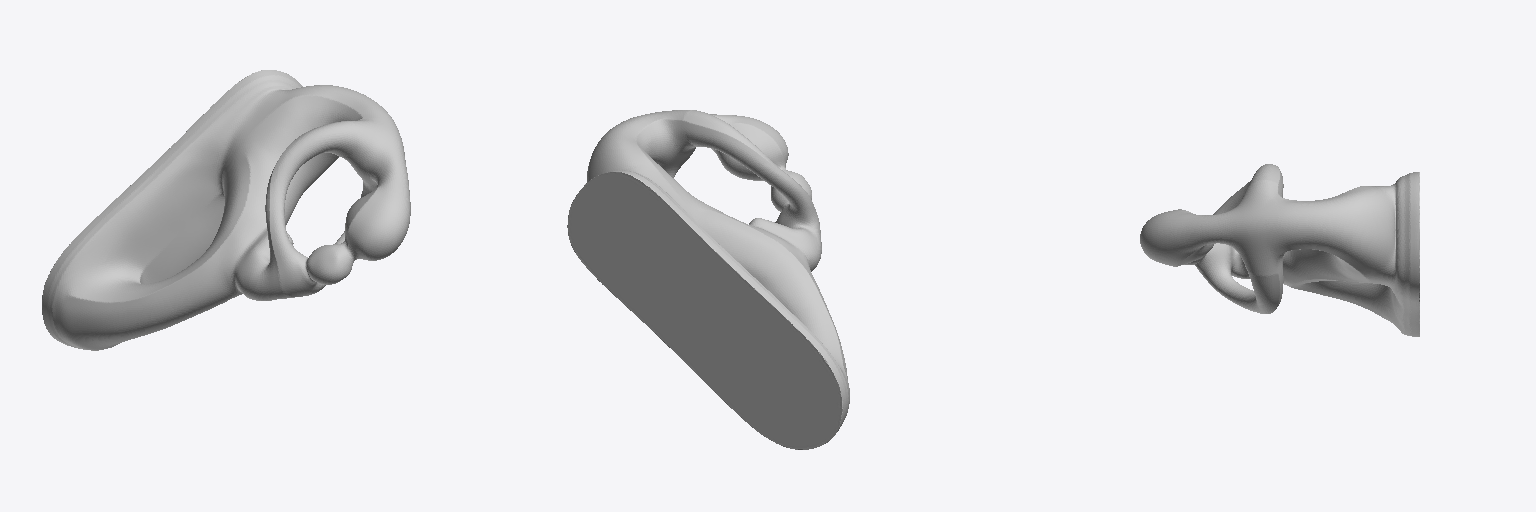
The model's file is motherChild_50k.obj.
3 views of the same model, side by side, from view 1: azimuth 30°, elevation 25°; view 2: azimuth 150°, elevation 25°; view 3: azimuth 270°, elevation 25° (orthographic).
Bounding box in the file's own units: 125 × 98.28 × 105.